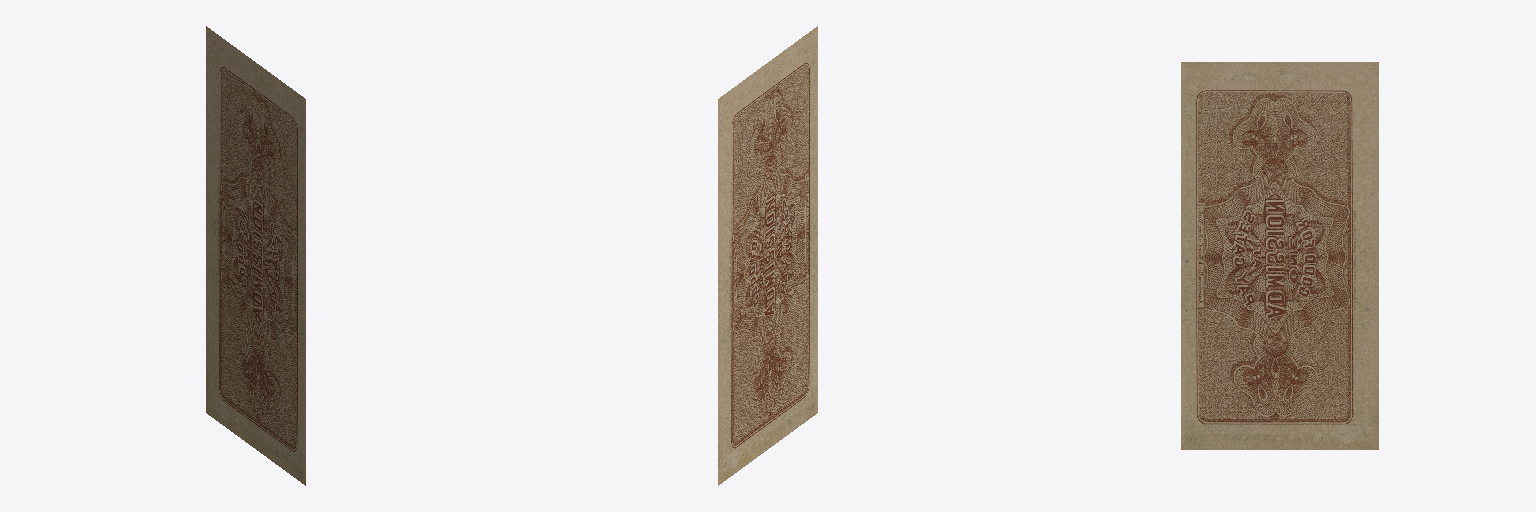
3 views of the same model, side by side, from view 1: azimuth 30°, elevation 25°; view 2: azimuth 150°, elevation 25°; view 3: azimuth 270°, elevation 25° (orthographic).
Visible parts, largest first — view 1: Ticket; view 2: Ticket; view 3: Ticket.
Boxes of the visible parts, box(x1,y1,x2,y2) form: Ticket: box(206, 26, 305, 485); Ticket: box(718, 26, 817, 485); Ticket: box(1181, 62, 1378, 449).
Size of the model in its own units: 0 by 0.1507 by 0.0701.
Materials: 1 (1 with a texture image).